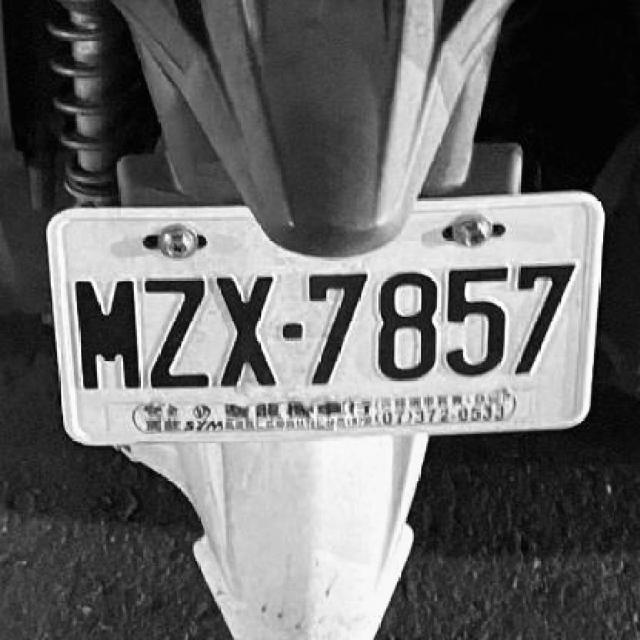-: (282, 322, 300, 338)
5: (443, 266, 509, 383)
7: (514, 256, 578, 376), (306, 271, 369, 389)
8: (377, 268, 441, 386)
M: (72, 272, 140, 391)
X: (214, 268, 278, 390)
Z: (145, 272, 212, 394)
